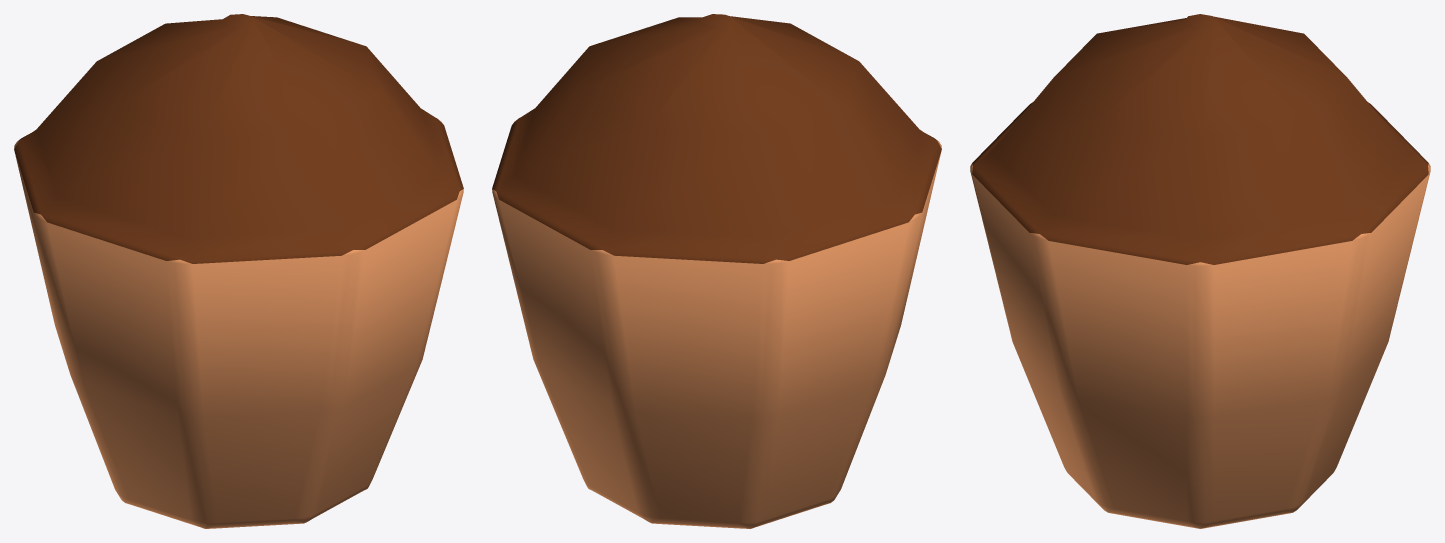
Rendered from Dessert_1_1.fbx.
3 views of the same model, side by side, from view 1: azimuth 30°, elevation 25°; view 2: azimuth 150°, elevation 25°; view 3: azimuth 270°, elevation 25° (orthographic).
Visible parts, largest first — view 1: Dessert_1; view 2: Dessert_1; view 3: Dessert_1.
Part boxes in pixels (x1,y1,x2,y2): Dessert_1: (14,14,463,528); Dessert_1: (492,14,941,528); Dessert_1: (970,14,1430,528).
Bounding box in the file's own units: 4.67 × 5.1 × 4.67.
